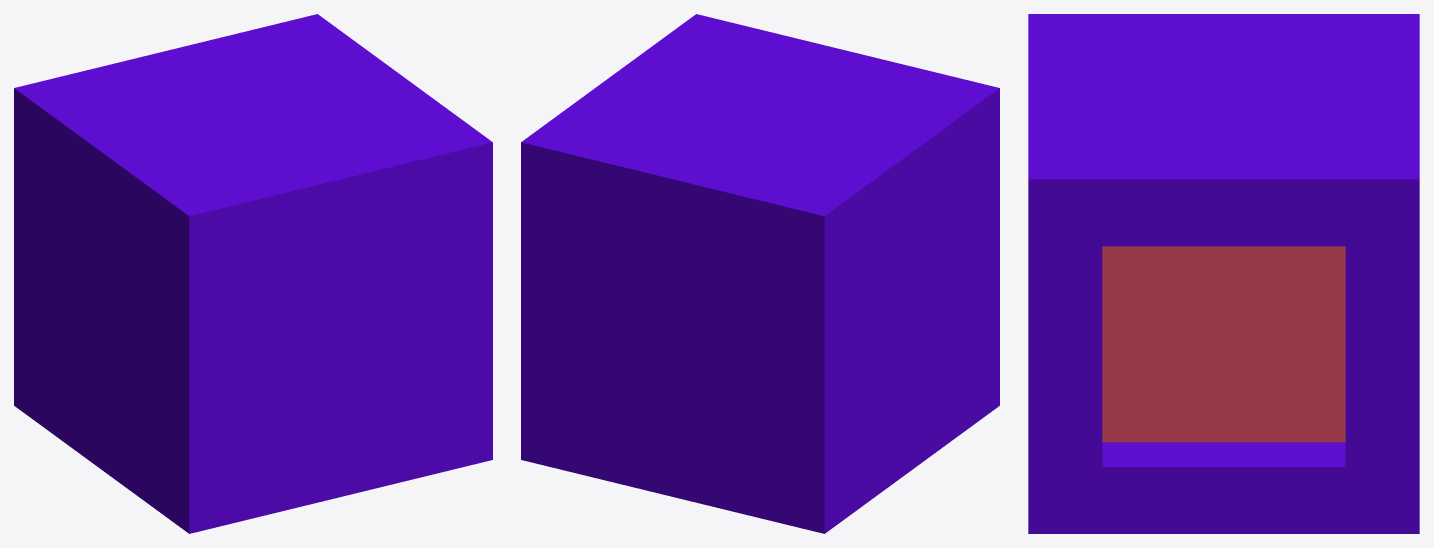
The model's file is spawner.fbx_Scene.fbx.
The picture shows the model from 3 angles, left to right: view 1: azimuth 30°, elevation 25°; view 2: azimuth 150°, elevation 25°; view 3: azimuth 270°, elevation 25°; orthographic projection. The views are drawn at different scales.
Visible parts, largest first — view 1: Cube; view 2: Cube; view 3: Cube, Plane.
Boxes of the visible parts, bbox=[...] form: Cube: bbox=[14, 14, 492, 533]; Cube: bbox=[521, 14, 999, 533]; Cube: bbox=[1028, 14, 1419, 533]; Plane: bbox=[1102, 246, 1345, 442].
Bounding box in the file's own units: 200 × 200 × 200.
